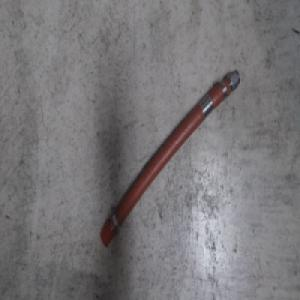Hose: (99, 67, 241, 251)
